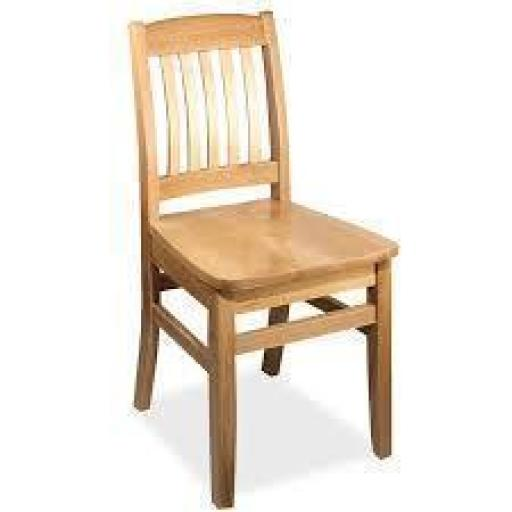chair: (120, 6, 402, 508)
